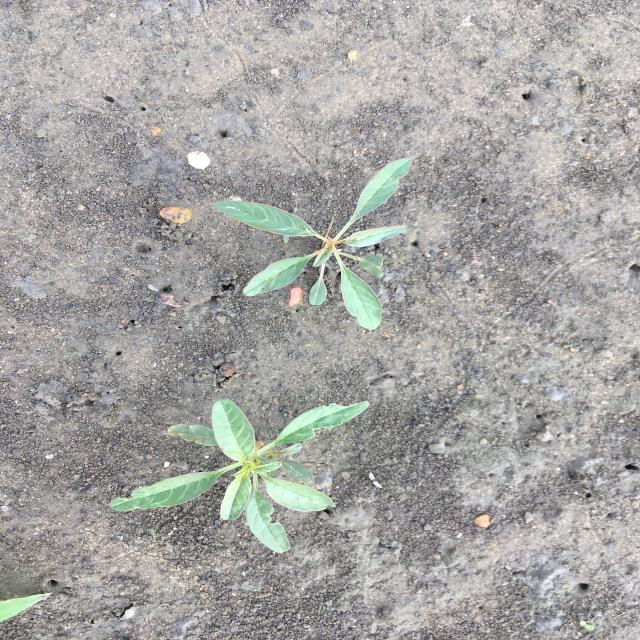Waterhemp: (108, 398, 372, 554), (211, 156, 416, 333)
